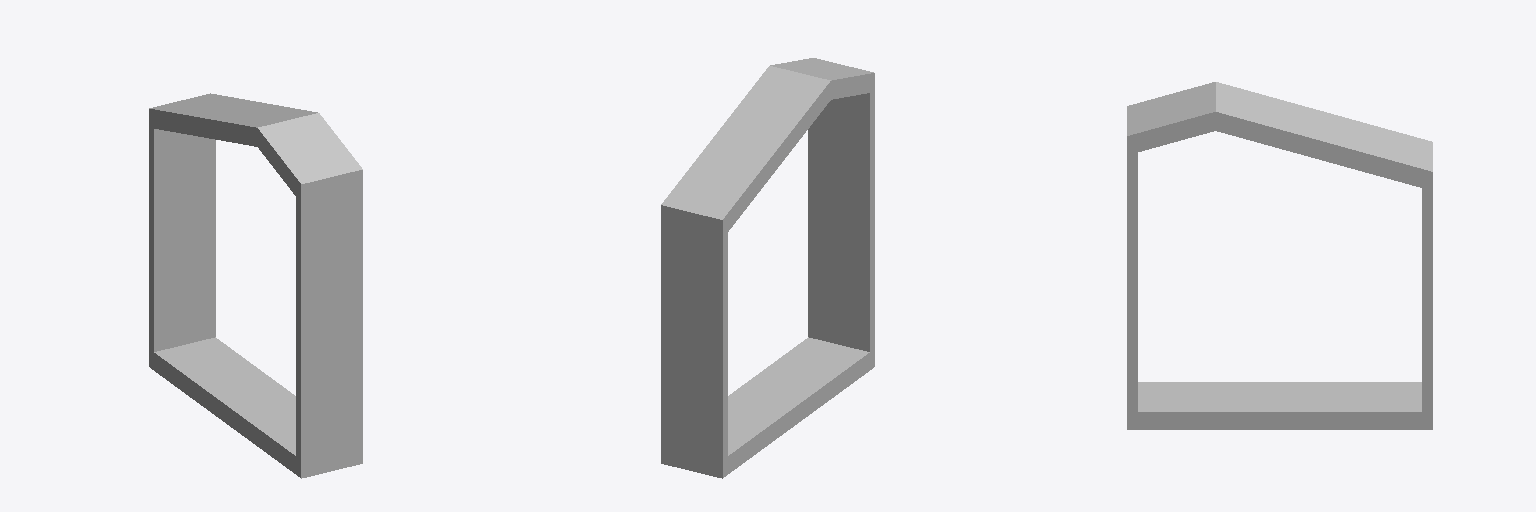
Rendered from 3D_4.2_SIM.obj.
3 renders of one model, left to right at view 1: azimuth 30°, elevation 25°; view 2: azimuth 150°, elevation 25°; view 3: azimuth 270°, elevation 25°, orthographic.
Parts seen in each view (by area): view 1: 3D_4.2_SIM; view 2: 3D_4.2_SIM; view 3: 3D_4.2_SIM.
Part boxes in pixels (x1,y1,x2,y2): 3D_4.2_SIM: (149,93,362,478); 3D_4.2_SIM: (661,58,874,478); 3D_4.2_SIM: (1127,82,1432,429).
Size of the model in its own units: 0.7 by 3.46 by 3.